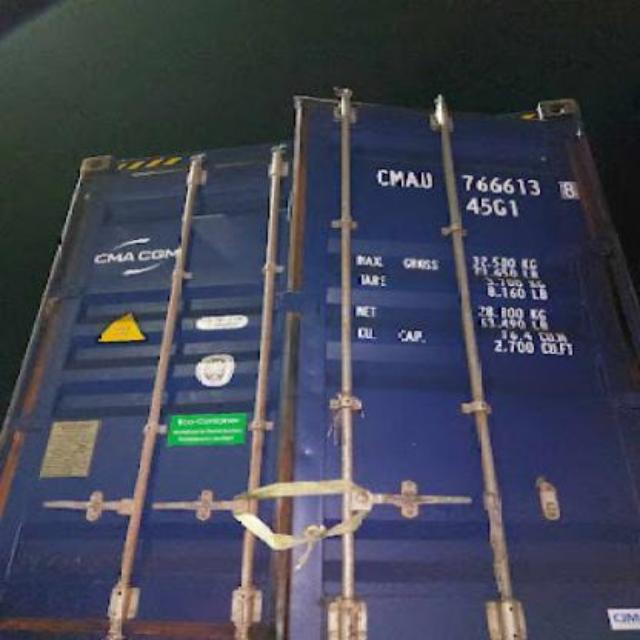1: (516, 178, 528, 198)
3: (528, 180, 544, 196)
6: (491, 174, 504, 196), (474, 177, 490, 193), (504, 178, 516, 194)
7: (462, 173, 474, 191)
8: (562, 182, 576, 198)
A: (406, 170, 419, 188)
C: (376, 167, 389, 190)
M: (392, 170, 404, 188)
U: (420, 170, 436, 190)
